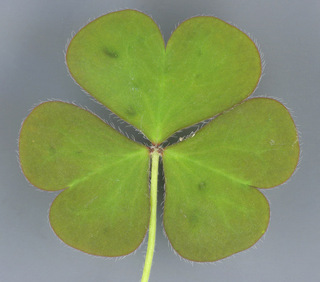oxalis: (22, 13, 289, 266)
